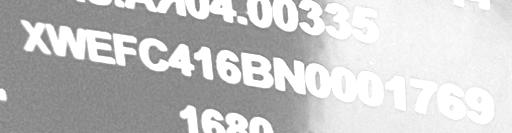letter: (44, 22, 88, 62), (240, 50, 274, 93), (272, 56, 308, 95), (18, 17, 52, 58), (84, 28, 118, 69), (137, 35, 169, 76), (437, 79, 467, 121), (407, 75, 437, 117), (354, 69, 386, 108), (213, 47, 243, 88), (465, 85, 495, 124), (168, 40, 196, 81), (330, 65, 358, 104), (112, 30, 138, 71), (304, 62, 330, 101), (192, 43, 216, 84), (383, 73, 407, 114)
